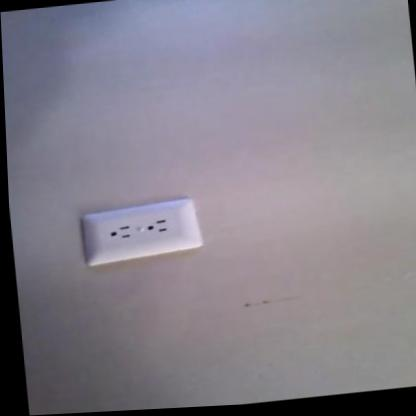OUTLET: (79, 199, 204, 263)
